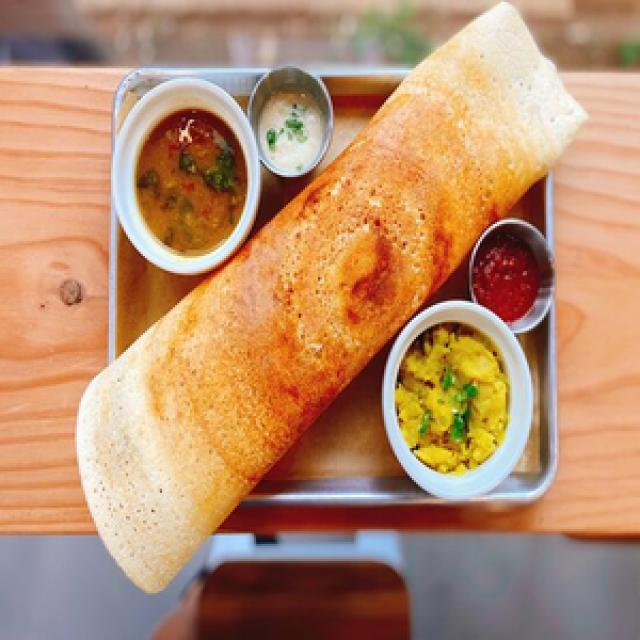dosa: (64, 0, 597, 634)
